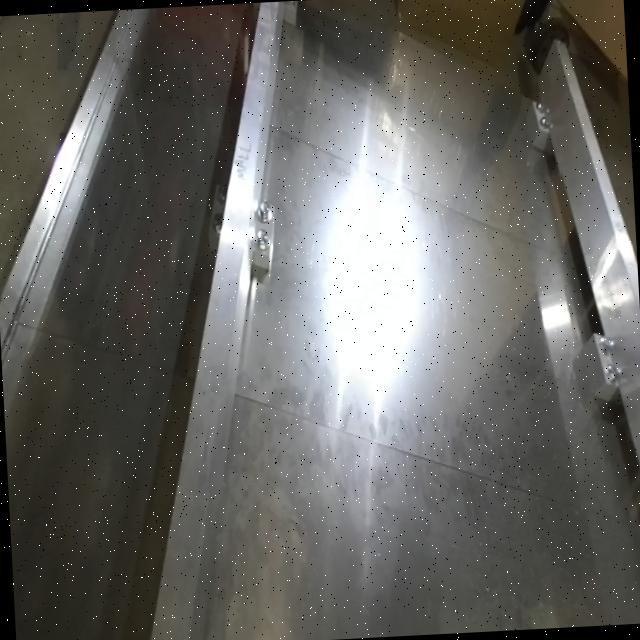blocks: (206, 162, 288, 288), (571, 314, 636, 422), (524, 91, 562, 183), (242, 1, 308, 46)
